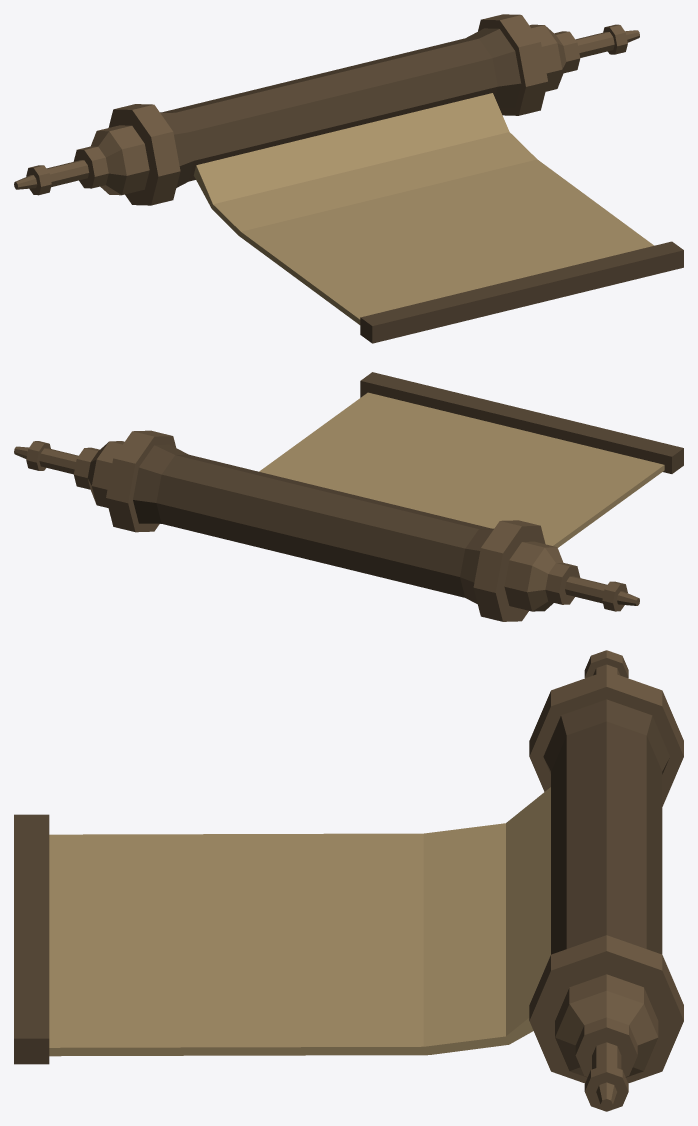
The model's file is SM_Prop_Scroll_02.gltf.
3 views of the same model, one above another, from view 1: azimuth 30°, elevation 25°; view 2: azimuth 150°, elevation 25°; view 3: azimuth 270°, elevation 25° (orthographic). The views are drawn at different scales.
Visible parts, largest first — view 1: SM_Prop_Scroll_02; view 2: SM_Prop_Scroll_02; view 3: SM_Prop_Scroll_02.
Boxes of the visible parts, x1,y1,x2,y2 form: SM_Prop_Scroll_02: (14, 14, 683, 343); SM_Prop_Scroll_02: (14, 372, 683, 621); SM_Prop_Scroll_02: (14, 650, 683, 1111).
Size of the model in its own units: 0.7836 by 0.1156 by 0.4961.
1 material, 1 textured.
